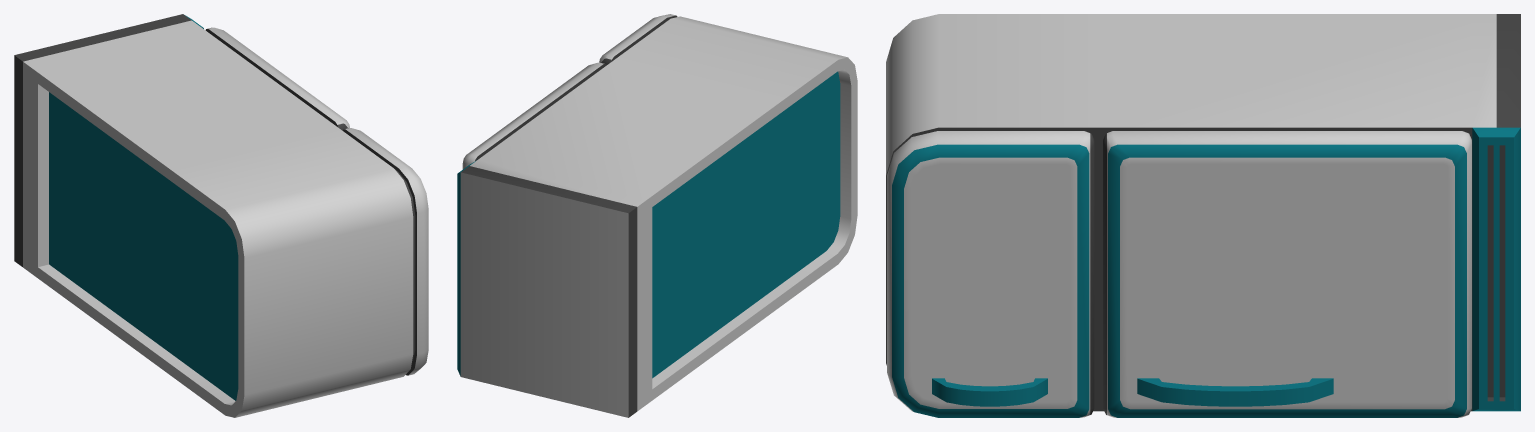
File: refridgerator.glb
3 renders of one model, left to right at view 1: azimuth 30°, elevation 25°; view 2: azimuth 150°, elevation 25°; view 3: azimuth 270°, elevation 25°, orthographic. The views are drawn at different scales.
Parts seen in each view (by area): view 1: refridgerator; view 2: refridgerator; view 3: refridgerator.
Boxes of the visible parts, x1,y1,x2,y2 form: refridgerator: [14, 14, 428, 417]; refridgerator: [457, 14, 857, 417]; refridgerator: [886, 14, 1520, 417].
Bounding box in the file's own units: 1.1 × 1.03 × 2.1.
